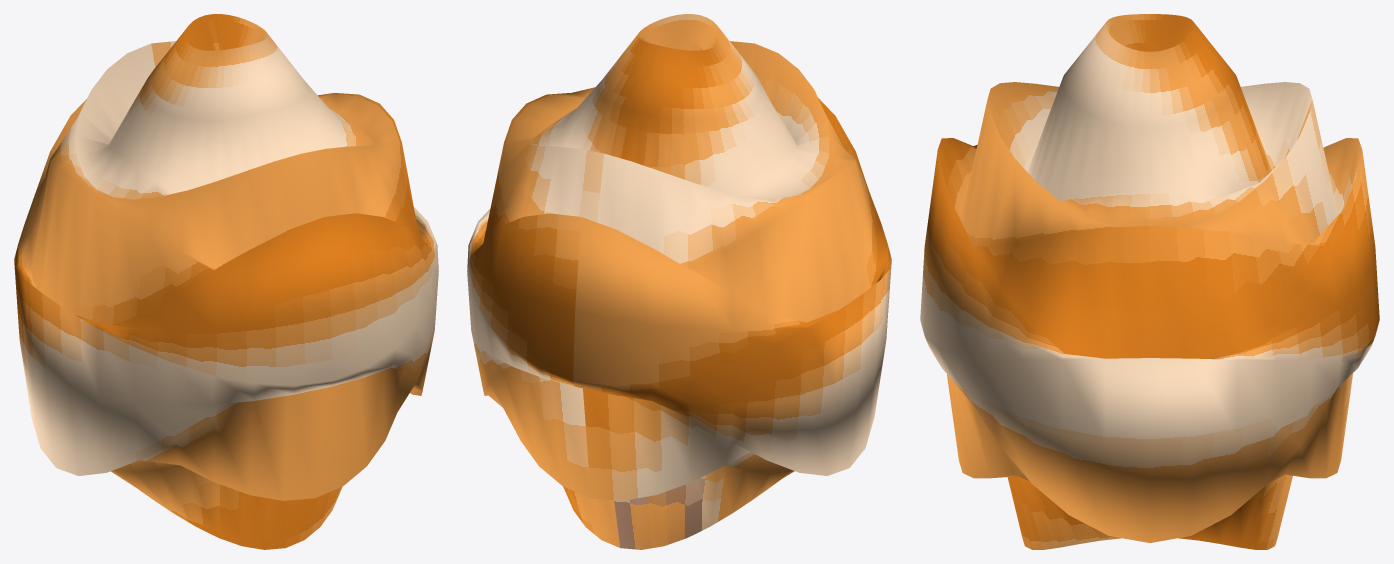
The model's file is VanillaScoop.obj.
The picture shows the model from 3 angles, left to right: view 1: azimuth 30°, elevation 25°; view 2: azimuth 150°, elevation 25°; view 3: azimuth 270°, elevation 25°; orthographic projection. The views are drawn at different scales.
Parts seen in each view (by area): view 1: Sphere001; view 2: Sphere001; view 3: Sphere001.
Boxes of the visible parts, x1,y1,x2,y2 form: Sphere001: [14, 14, 438, 549]; Sphere001: [467, 14, 891, 549]; Sphere001: [920, 14, 1379, 549].
Size of the model in its own units: 1.18 by 1.45 by 1.18.
